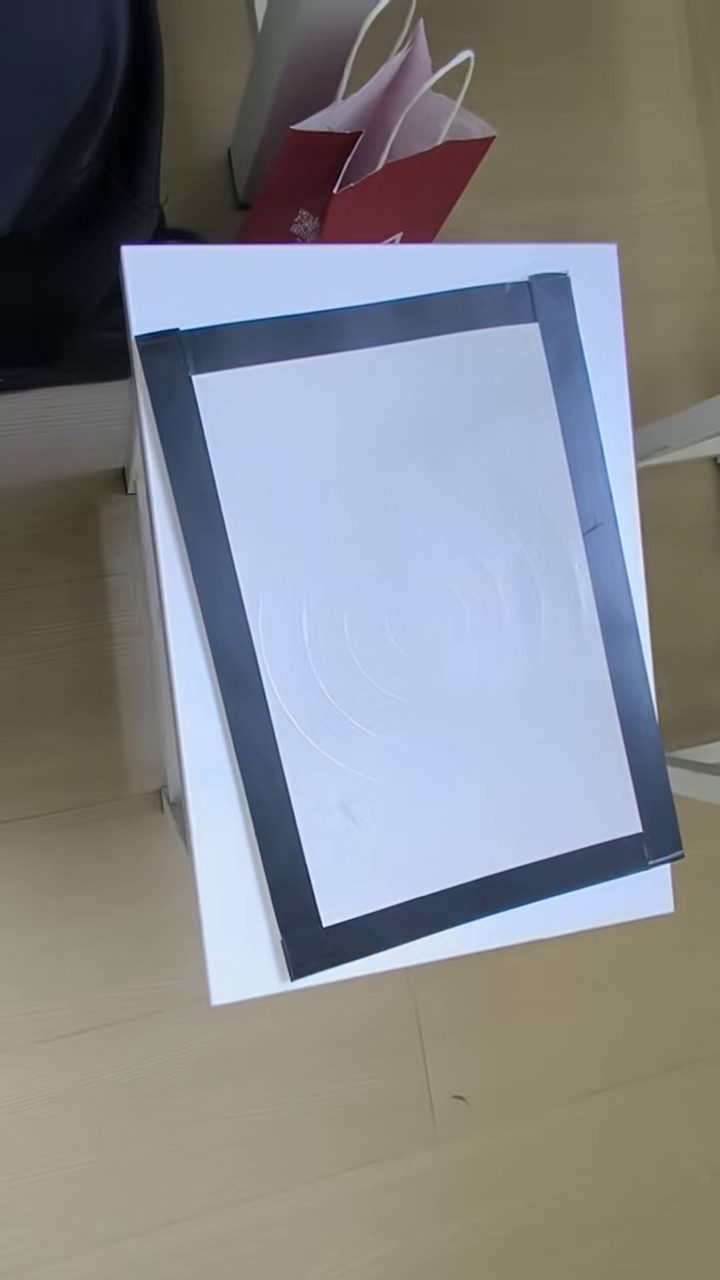board: (136, 273, 684, 974)
